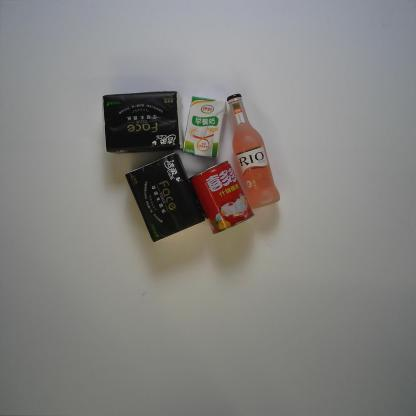Alcohol: (226, 92, 280, 209)
Canned Food: (188, 160, 254, 235)
Milk: (182, 96, 227, 160)
Tissue: (124, 152, 206, 244), (101, 90, 187, 154)
